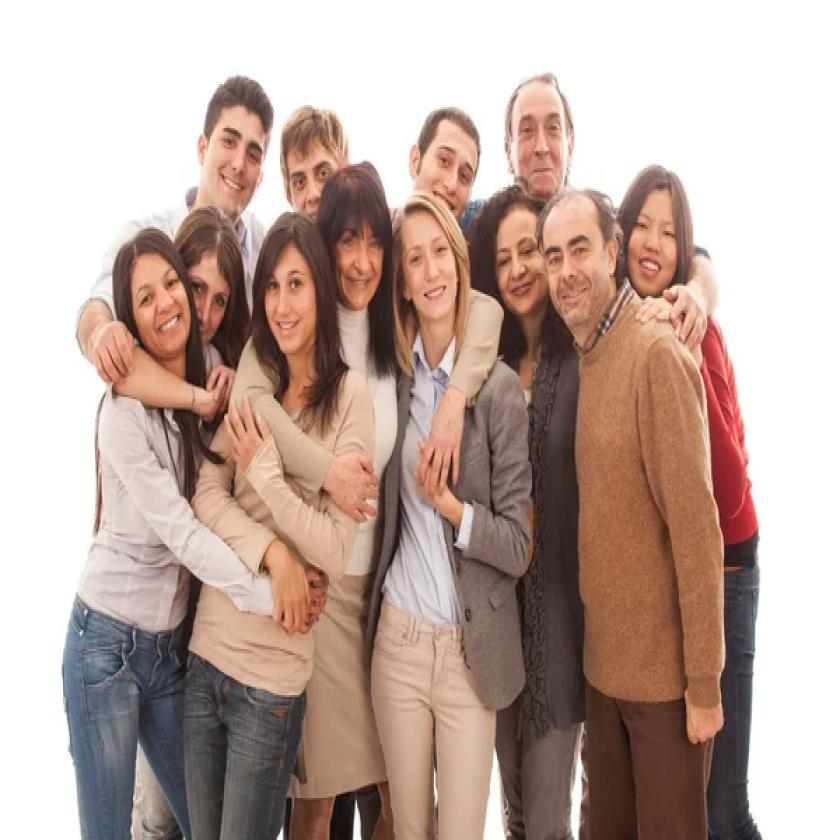Sin_casco: (396, 189, 463, 378), (196, 57, 276, 215), (626, 139, 696, 304), (477, 180, 551, 333), (538, 196, 620, 332), (497, 67, 581, 196), (258, 219, 322, 385), (117, 225, 186, 370), (323, 166, 388, 316), (405, 95, 484, 212), (180, 217, 246, 349)
